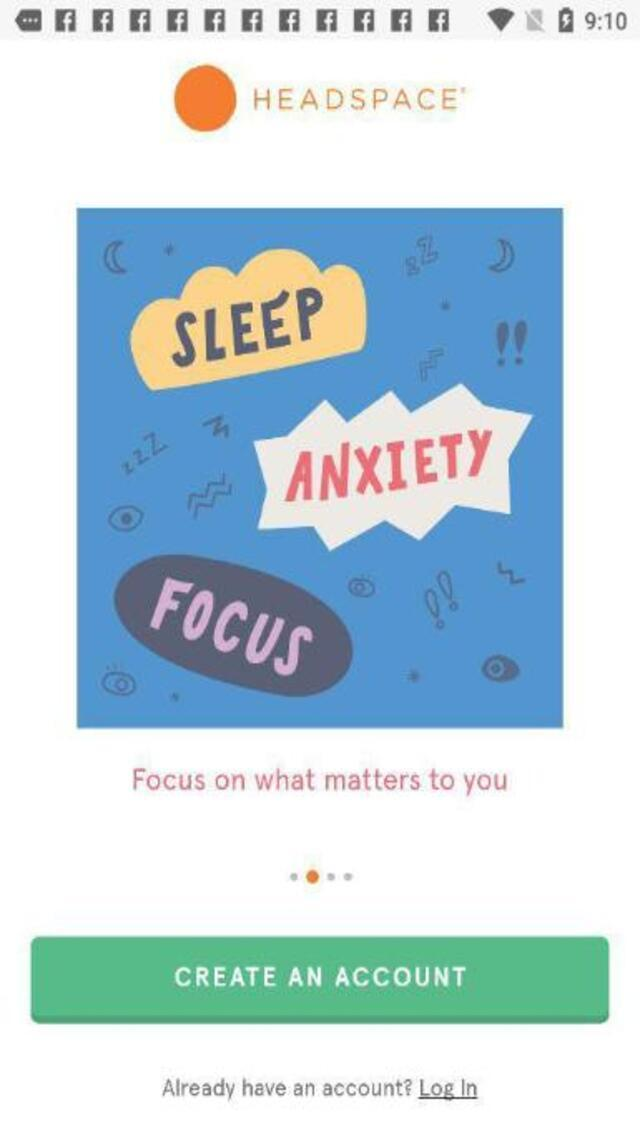Image: (75, 207, 562, 728), (174, 64, 481, 135)
Text: (134, 766, 508, 795), (167, 962, 473, 990), (161, 1076, 477, 1100)
TextButton: (30, 934, 608, 1022)
